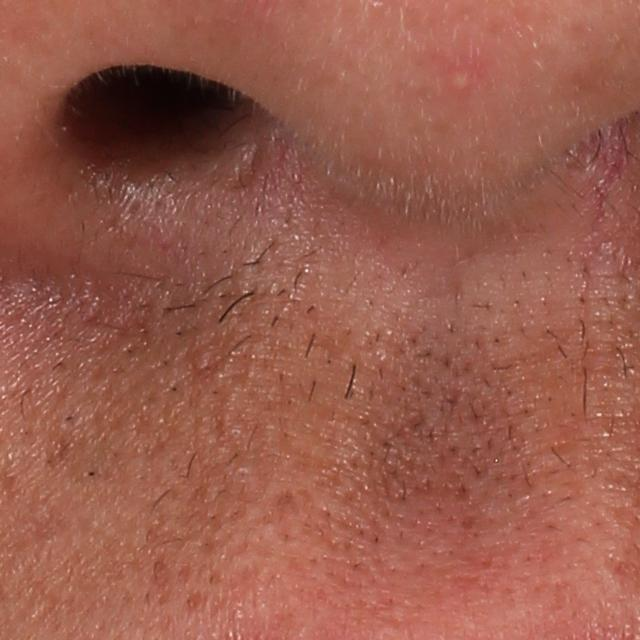pustule: (446, 64, 480, 94)
